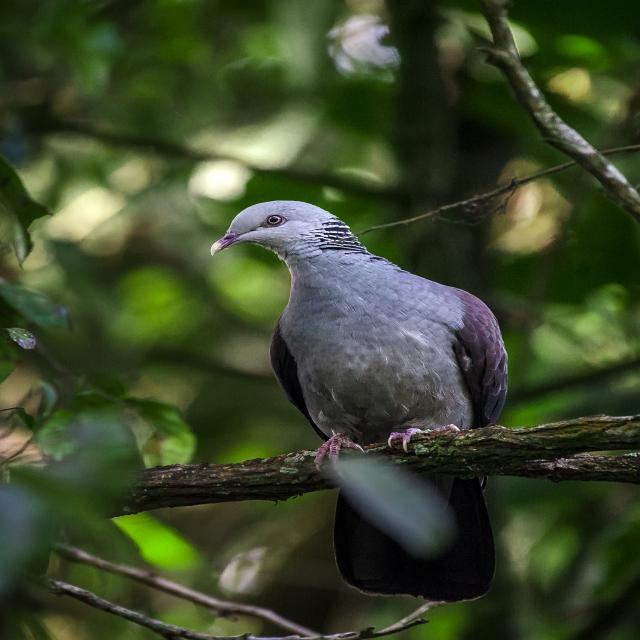Pigeon: (210, 198, 514, 605)
